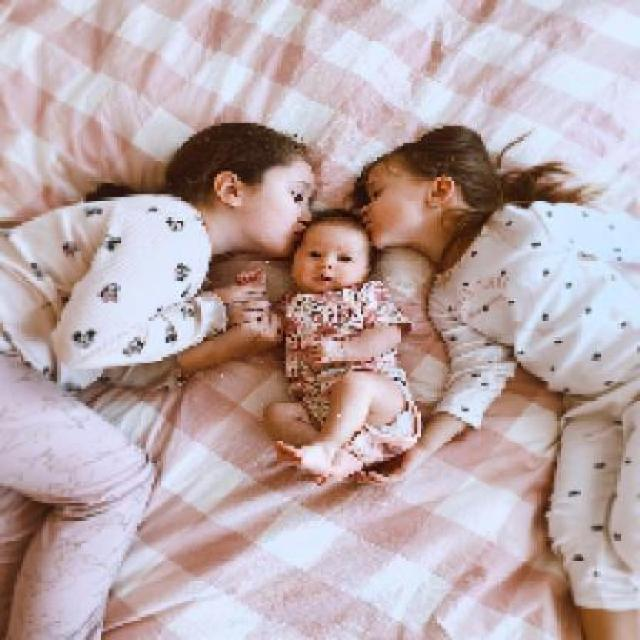child: (0, 120, 317, 637), (352, 125, 638, 638), (232, 211, 425, 486)
